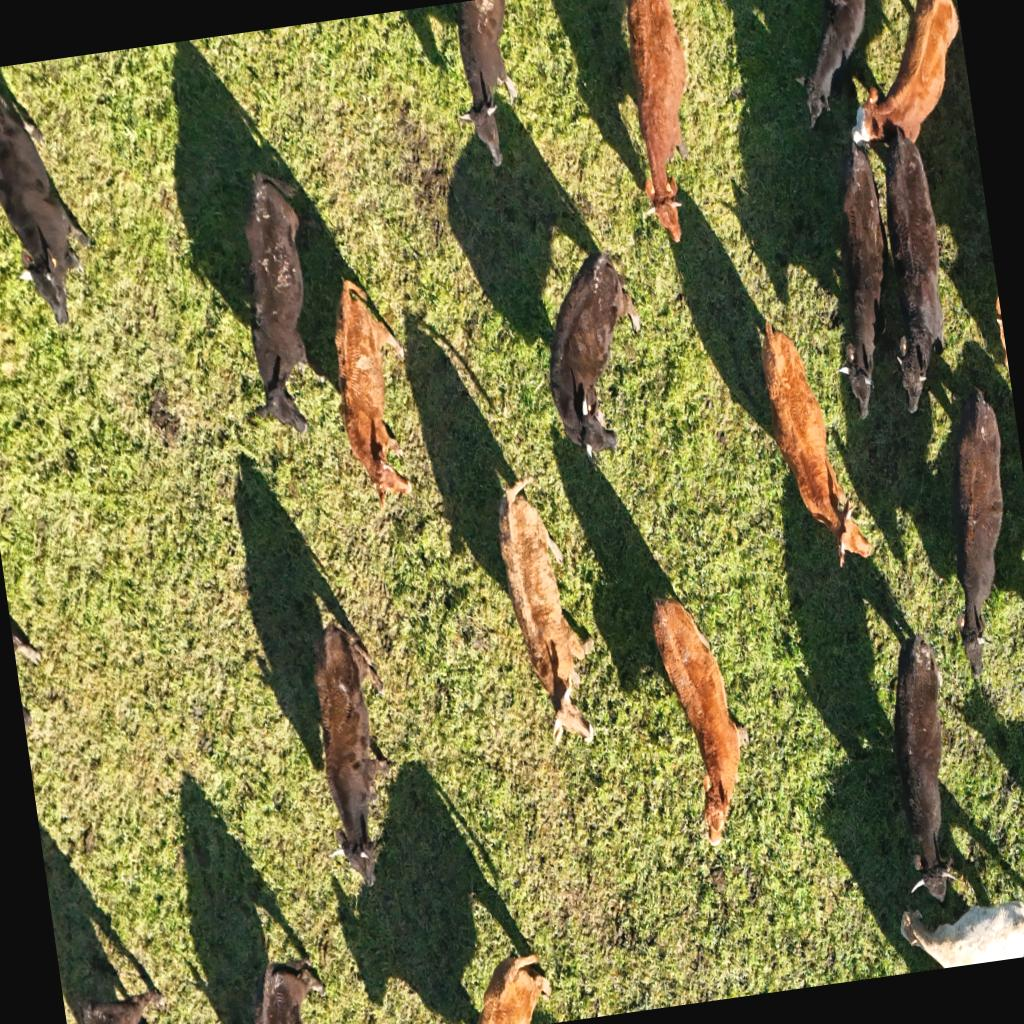cow: (215, 167, 338, 439), (756, 312, 870, 574), (303, 613, 412, 884), (806, 130, 907, 421), (864, 118, 962, 416), (498, 474, 605, 746), (0, 57, 104, 336), (927, 382, 1024, 667), (533, 252, 655, 468), (615, 0, 718, 253), (661, 588, 762, 843), (875, 631, 971, 898), (323, 276, 424, 513), (840, 0, 977, 159), (440, 0, 529, 171), (777, 0, 891, 132), (895, 884, 1024, 973), (462, 948, 557, 1024), (245, 955, 335, 1024), (72, 986, 176, 1024)
